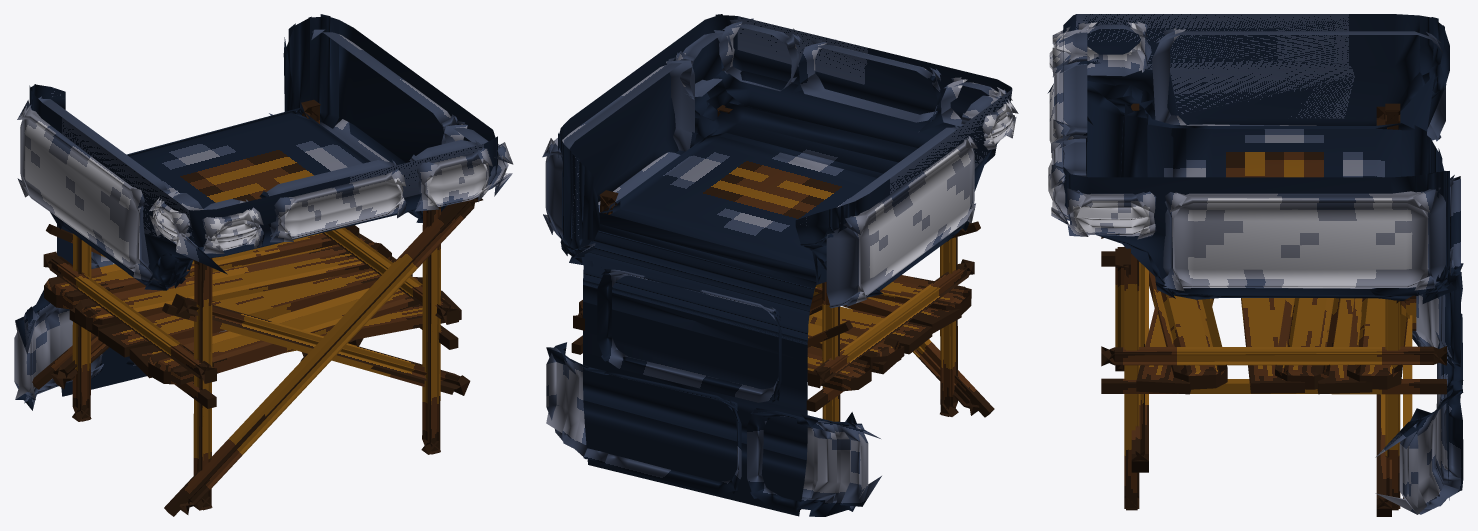
Rendered from tower_part_construction_top.fbx.
3 renders of one model, left to right at view 1: azimuth 30°, elevation 25°; view 2: azimuth 150°, elevation 25°; view 3: azimuth 270°, elevation 25°, orthographic. The views are drawn at different scales.
Parts seen in each view (by area): view 1: tower_construction_top; view 2: tower_construction_top; view 3: tower_construction_top.
Boxes of the visible parts, x1,y1,x2,y2 form: tower_construction_top: (14, 14, 513, 516); tower_construction_top: (542, 14, 1018, 516); tower_construction_top: (1047, 14, 1463, 516).
Size of the model in its own units: 220 by 215 by 201.
